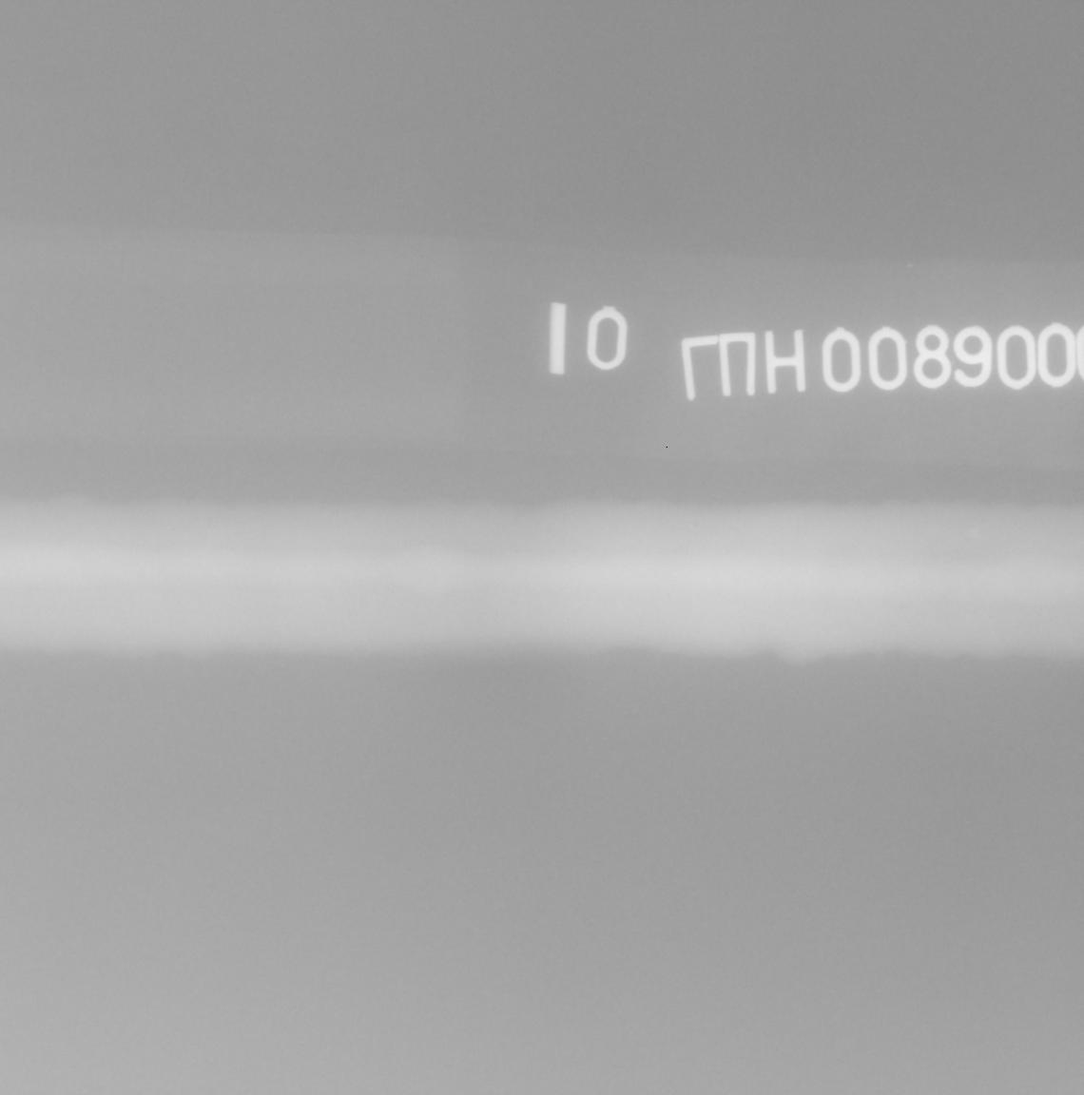Pore/Porosity: (692, 522, 699, 528), (965, 536, 969, 543)
